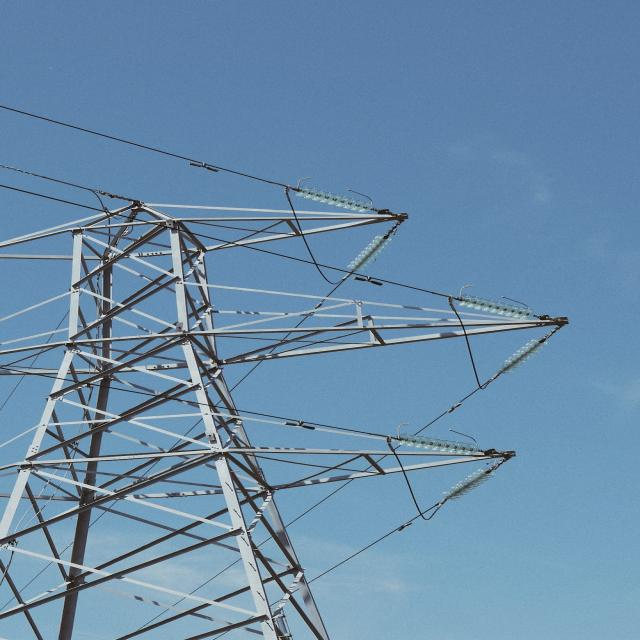transmission tower: (0, 148, 558, 640)
